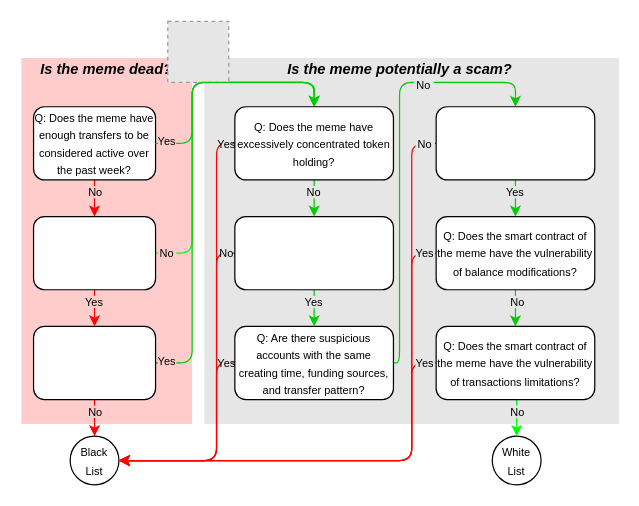
This 639x506 diagram has some shape labels left out. Grey dashed boxes stand in for pictures. The centre of each missing label's shape, as x and y in pixels:
"Q: Does the meme have abundant trading activities?" belongs at pixel 313 252.
"Q: Does the meme uploaded verified smart contracts in Etherscan?" belongs at pixel 515 143.
"Q: Has the liquidity recovered over the past week?" belongs at pixel 94 362.
"Q: Has the majority of the liquidity been withdrawn over the past week?" belongs at pixel 94 252.
